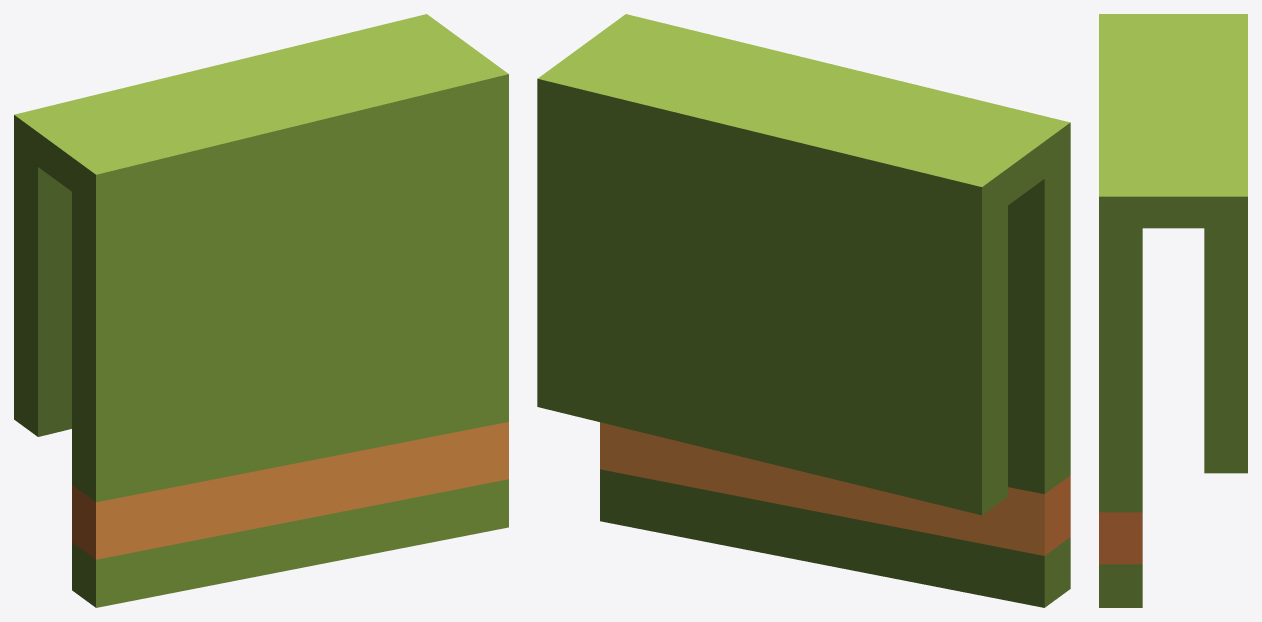
Rendered from Prop_TowelBig_Red.fbx.
3 views of the same model, side by side, from view 1: azimuth 30°, elevation 25°; view 2: azimuth 150°, elevation 25°; view 3: azimuth 270°, elevation 25° (orthographic). The views are drawn at different scales.
Parts seen in each view (by area): view 1: Prop_TowelBig_Red; view 2: Prop_TowelBig_Red; view 3: Prop_TowelBig_Red.
Boxes of the visible parts, x1,y1,x2,y2 form: Prop_TowelBig_Red: (14,14,508,607); Prop_TowelBig_Red: (537,14,1070,607); Prop_TowelBig_Red: (1099,14,1247,607).
Size of the model in its own units: 0.00496 by 0.0052 by 0.00171.
Materials: 1 (1 with a texture image).
